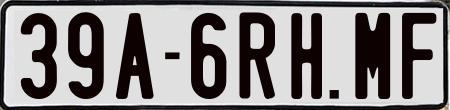3: (18, 10, 59, 96)
6: (188, 10, 228, 99)
9: (67, 10, 108, 102)
A: (114, 13, 153, 104)
F: (400, 13, 432, 102)
H: (290, 12, 322, 98)
M: (353, 12, 390, 99)
R: (238, 12, 280, 104)
